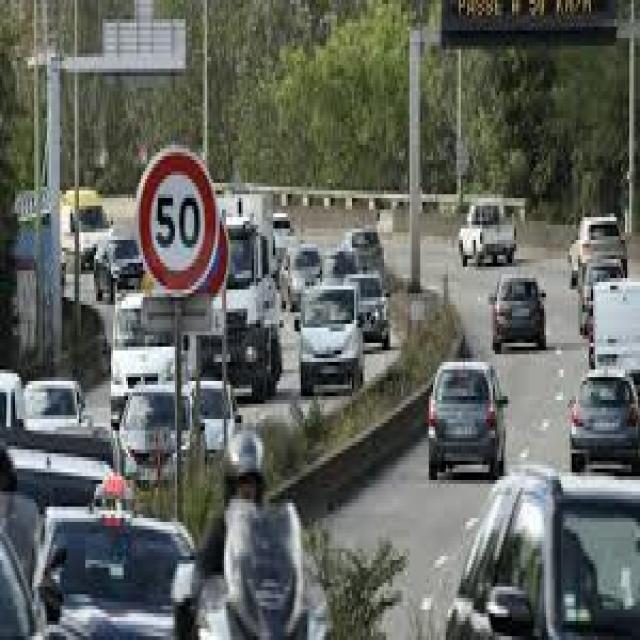Speed limit 50: (134, 142, 230, 302)
